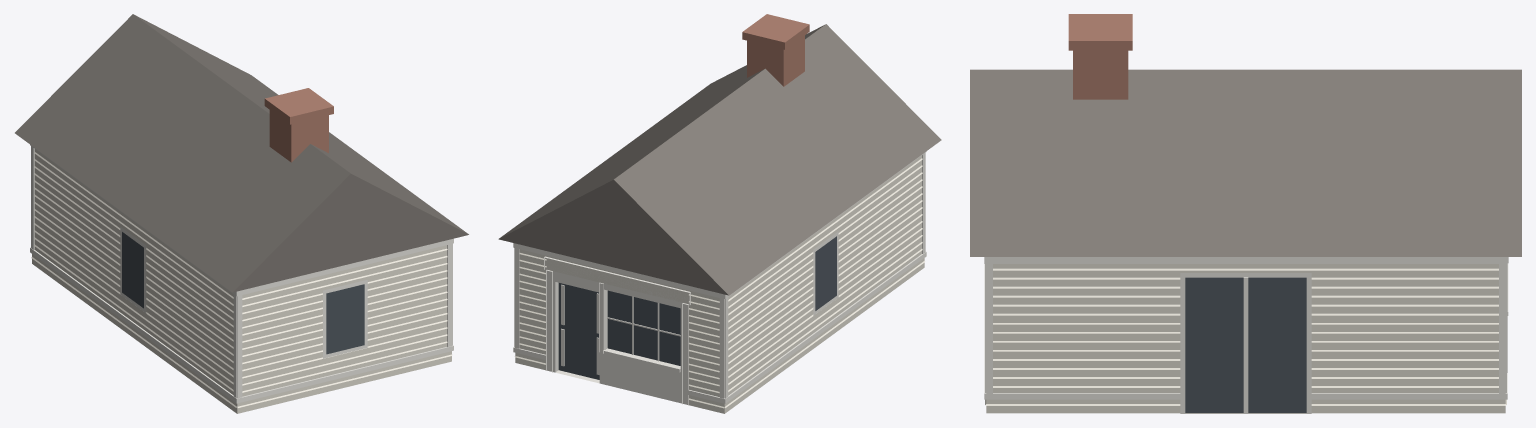
The model's file is recon_1835_south_c1_010__inferred_1835.glb.
3 views of the same model, side by side, from view 1: azimuth 30°, elevation 25°; view 2: azimuth 150°, elevation 25°; view 3: azimuth 270°, elevation 25° (orthographic). The views are drawn at different scales.
Visible parts, largest first — view 1: recon_1835_south_c1_010__inferred_1835; view 2: recon_1835_south_c1_010__inferred_1835; view 3: recon_1835_south_c1_010__inferred_1835.
Part boxes in pixels (bbox=[...]): recon_1835_south_c1_010__inferred_1835: bbox=[15, 14, 468, 413]; recon_1835_south_c1_010__inferred_1835: bbox=[498, 14, 941, 413]; recon_1835_south_c1_010__inferred_1835: bbox=[970, 14, 1521, 413].
Bounding box in the file's own units: 5.28 × 5.37 × 8.42.
